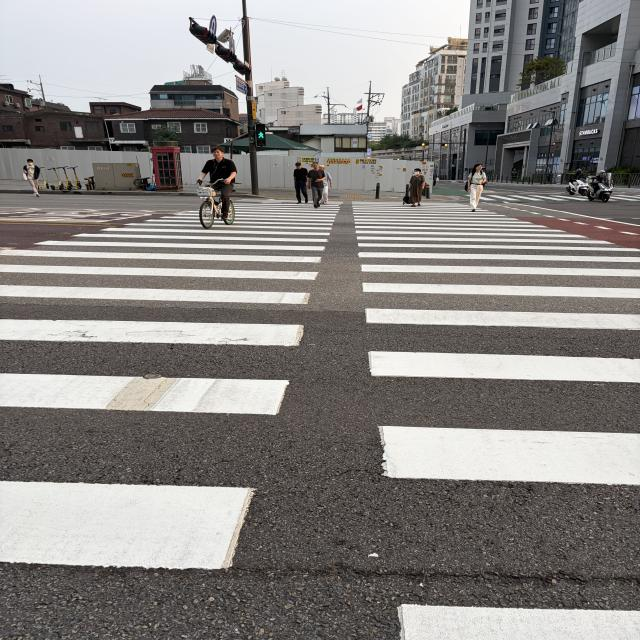bicycle: (185, 139, 249, 241)
